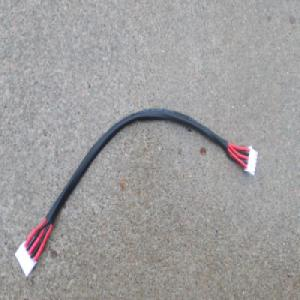Wire: (13, 105, 259, 278)
